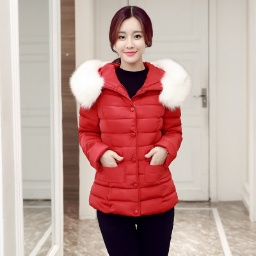face: (105, 4, 164, 80)
